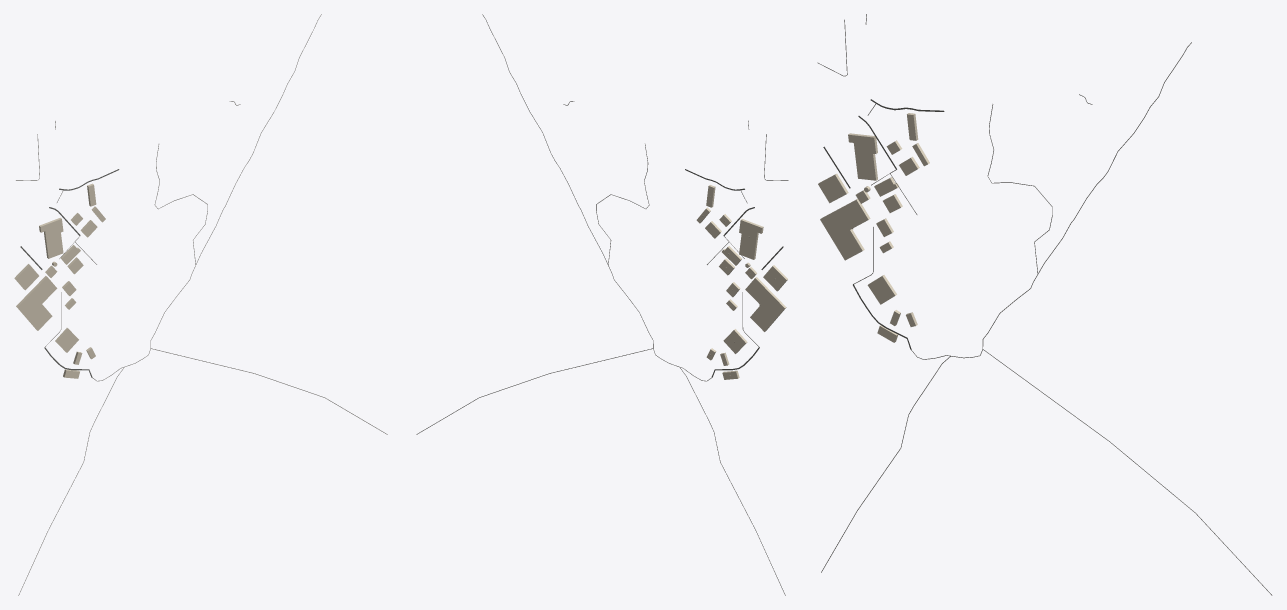
The model's file is historic-palestine-04_21_3460_3150.glb.
3 renders of one model, left to right at view 1: azimuth 30°, elevation 25°; view 2: azimuth 150°, elevation 25°; view 3: azimuth 330°, elevation 25°, orthographic. The views are drawn at different scales.
Visible parts, largest first — view 1: Building_.008, Building_.004; view 2: Building_.008, Building_.004; view 3: Building_.008, Building_.004.
Part boxes in pixels (<box>): Building_.008: <box>16,276,57,330</box>; Building_.004: <box>39,217,63,258</box>; Building_.008: <box>745,277,786,331</box>; Building_.004: <box>739,219,763,259</box>; Building_.008: <box>820,199,870,260</box>; Building_.004: <box>848,133,877,180</box>.
Size of the model in its own units: 1038 by 1353 by 8.7.
